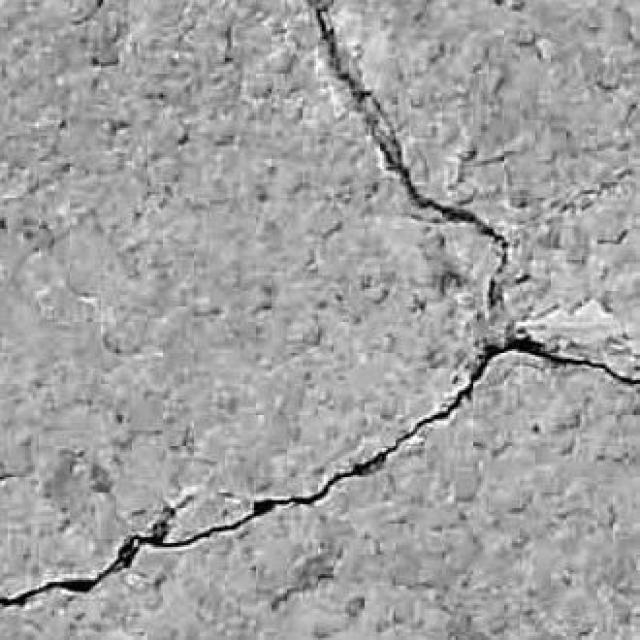crack: (0, 330, 639, 608), (0, 330, 639, 607), (309, 0, 510, 308), (0, 501, 186, 608), (72, 0, 104, 25)
